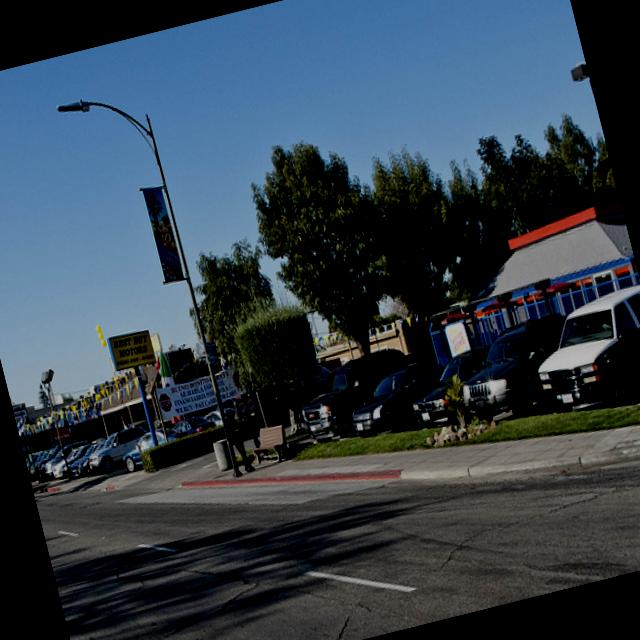Vehicle: (519, 281, 640, 426), (446, 308, 586, 429), (290, 341, 426, 449), (342, 352, 463, 442), (400, 340, 507, 433), (116, 421, 194, 474), (83, 422, 155, 477), (627, 293, 640, 401), (72, 441, 110, 476), (58, 444, 97, 477), (172, 409, 216, 436), (49, 454, 68, 478)
